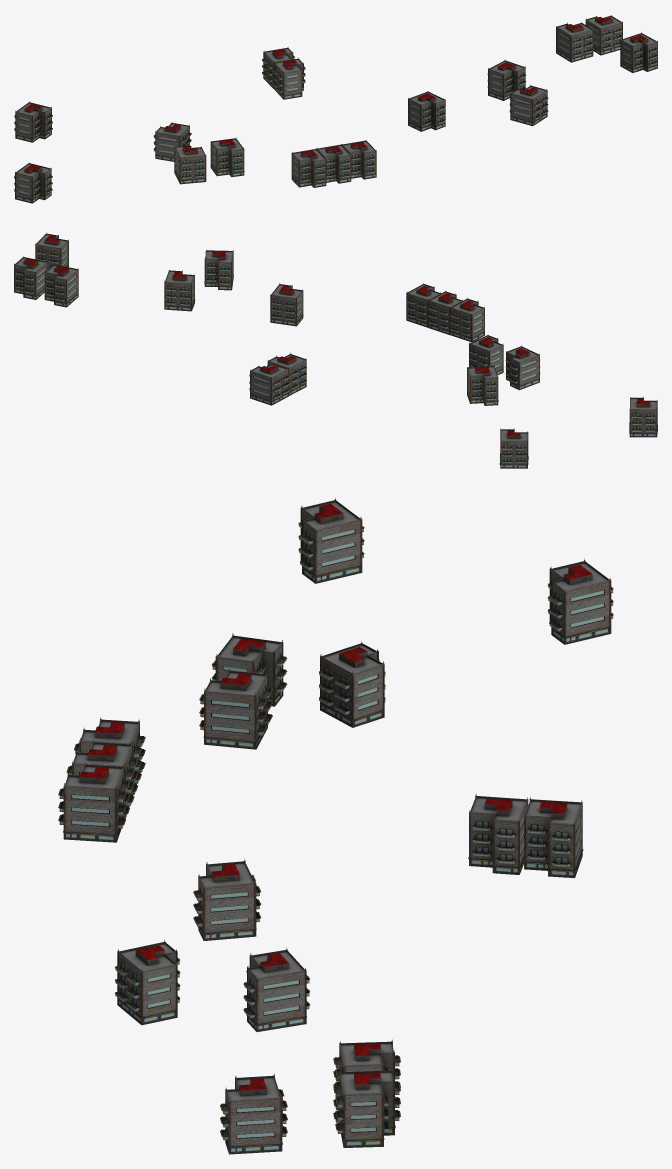
The model's file is buildings.obj.
The picture shows the model from 3 angles, top to bottom: view 1: azimuth 30°, elevation 25°; view 2: azimuth 150°, elevation 25°; view 3: azimuth 270°, elevation 25°; orthographic projection. The views are drawn at different scales.
Visible parts, largest first — view 1: Homemount8_Plane.001_Homemount8_Plane.003, Homemount8_Plane.002, Homemount8_Plane.004_Homemount8_Plane.008, Homemount8_Plane.009_Homemount8_Plane.012, Homemount8_Plane.003_Homemount8_Plane.006, Homemount8_Plane.011_Homemount8_Plane.014, Homemount8_Plane.000, Homemount8_Plane.007, Homemount8_Plane.005_Homemount8_Plane.009, Homemount8_Plane.012_Homemount8_Plane.015, Homemount8_Plane.006_Homemount8_Plane.010, Homemount8_Plane.010_Homemount8_Plane.013 (+1 smaller); view 2: Homemount8_Plane.001_Homemount8_Plane.003, Homemount8_Plane.002, Homemount8_Plane.009_Homemount8_Plane.012, Homemount8_Plane.006_Homemount8_Plane.010, Homemount8_Plane.003_Homemount8_Plane.006, Homemount8_Plane.008_Homemount8_Plane.011, Homemount8_Plane.010_Homemount8_Plane.013, Homemount8_Plane.012_Homemount8_Plane.015, Homemount8_Plane.004_Homemount8_Plane.008, Homemount8_Plane.007, Homemount8_Plane.000, Homemount8_Plane.005_Homemount8_Plane.009 (+1 smaller); view 3: Homemount8_Plane.002, Homemount8_Plane.001_Homemount8_Plane.003, Homemount8_Plane.005_Homemount8_Plane.009, Homemount8_Plane.008_Homemount8_Plane.011, Homemount8_Plane.000, Homemount8_Plane.007, Homemount8_Plane.004_Homemount8_Plane.008, Homemount8_Plane.011_Homemount8_Plane.014, Homemount8_Plane.010_Homemount8_Plane.013, Homemount8_Plane.012_Homemount8_Plane.015, Homemount8_Plane.003_Homemount8_Plane.006, Homemount8_Plane.006_Homemount8_Plane.010 (+1 smaller).
Boxes of the visible parts, x1,y1,x2,y2 form: Homemount8_Plane.001_Homemount8_Plane.003: (291,140,376,187); Homemount8_Plane.002: (262,46,305,99); Homemount8_Plane.004_Homemount8_Plane.008: (509,84,548,126); Homemount8_Plane.009_Homemount8_Plane.012: (556,22,593,62); Homemount8_Plane.003_Homemount8_Plane.006: (408,91,445,131); Homemount8_Plane.011_Homemount8_Plane.014: (620,32,657,72); Homemount8_Plane.000: (14,101,52,142); Homemount8_Plane.007: (14,163,52,203); Homemount8_Plane.005_Homemount8_Plane.009: (210,137,244,177); Homemount8_Plane.012_Homemount8_Plane.015: (487,59,526,100); Homemount8_Plane.006_Homemount8_Plane.010: (174,144,206,184); Homemount8_Plane.010_Homemount8_Plane.013: (585,15,622,55); Homemount8_Plane.001_Homemount8_Plane.003: (406,283,484,342); Homemount8_Plane.002: (249,353,306,405); Homemount8_Plane.009_Homemount8_Plane.012: (44,263,78,307); Homemount8_Plane.006_Homemount8_Plane.010: (505,345,540,390); Homemount8_Plane.003_Homemount8_Plane.006: (270,283,303,326); Homemount8_Plane.008_Homemount8_Plane.011: (467,365,498,405); Homemount8_Plane.010_Homemount8_Plane.013: (14,256,47,299); Homemount8_Plane.012_Homemount8_Plane.015: (164,270,195,311); Homemount8_Plane.004_Homemount8_Plane.008: (204,250,233,290); Homemount8_Plane.007: (629,397,657,437); Homemount8_Plane.000: (499,428,528,468); Homemount8_Plane.005_Homemount8_Plane.009: (469,335,503,375); Homemount8_Plane.002: (468,793,583,877); Homemount8_Plane.001_Homemount8_Plane.003: (58,717,145,842); Homemount8_Plane.005_Homemount8_Plane.009: (199,668,272,749); Homemount8_Plane.008_Homemount8_Plane.011: (319,641,385,727); Homemount8_Plane.000: (547,558,613,644); Homemount8_Plane.007: (298,498,364,583); Homemount8_Plane.004_Homemount8_Plane.008: (114,939,180,1025); Homemount8_Plane.011_Homemount8_Plane.014: (220,1073,287,1154); Homemount8_Plane.010_Homemount8_Plane.013: (333,1068,400,1147); Homemount8_Plane.012_Homemount8_Plane.015: (243,947,310,1031); Homemount8_Plane.003_Homemount8_Plane.006: (193,859,261,940); Homemount8_Plane.006_Homemount8_Plane.010: (211,633,287,706).
Bounding box in the file's own units: 301 × 13.96 × 117.
Materials: 1 (1 with a texture image).
